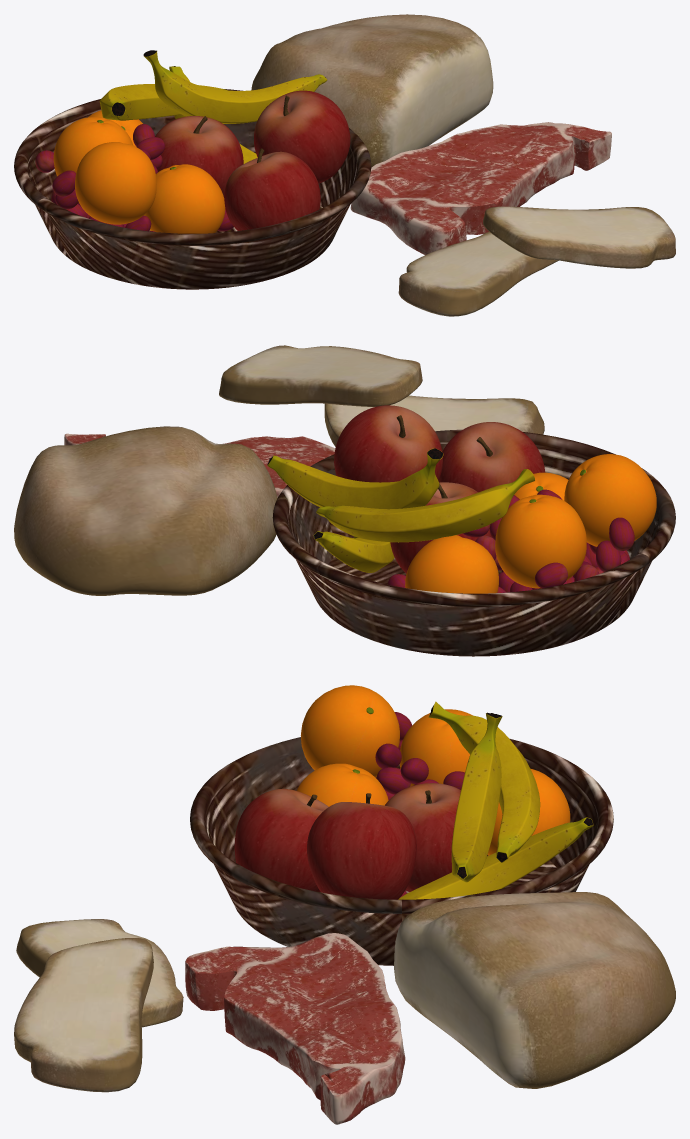
Rendered from tabua-frutas-carnes-paes-mobile.glb.
3 views of the same model, one above another, from view 1: azimuth 30°, elevation 25°; view 2: azimuth 150°, elevation 25°; view 3: azimuth 270°, elevation 25° (orthographic). The views are drawn at different scales.
Parts seen in each view (by area): view 1: canastas_canasta_0, frutas_frutas_0, carne_carne_0; view 2: canastas_canasta_0, frutas_frutas_0, carne_carne_0; view 3: canastas_canasta_0, frutas_frutas_0, carne_carne_0.
Part boxes in pixels (x1,y1,x2,y2): canastas_canasta_0: (14, 14, 675, 316); frutas_frutas_0: (35, 50, 350, 233); carne_carne_0: (350, 122, 611, 255); canastas_canasta_0: (14, 345, 675, 656); frutas_frutas_0: (267, 405, 656, 593); carne_carne_0: (64, 433, 335, 497); canastas_canasta_0: (14, 737, 675, 1092); frutas_frutas_0: (234, 685, 593, 899); carne_carne_0: (185, 933, 405, 1124).
Size of the model in its own units: 0.3783 by 0.1042 by 0.3334.
3 materials, 3 textured.
